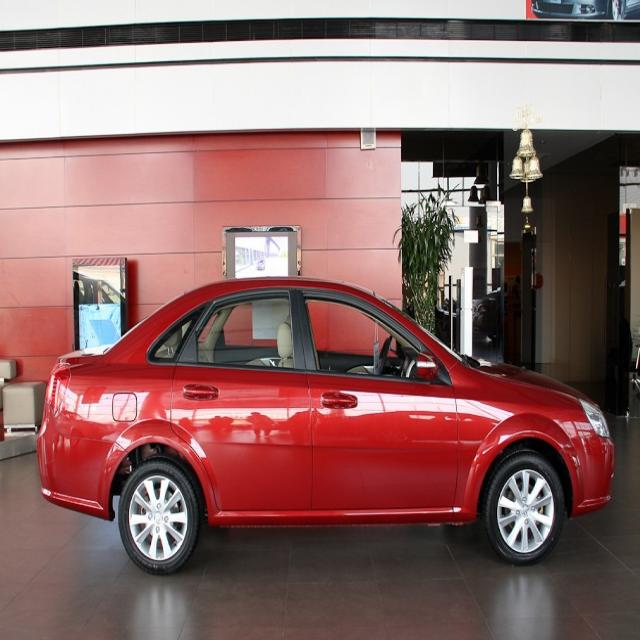back_right_side_light: (45, 363, 76, 418)
door: (168, 287, 315, 526)
front_bumper: (559, 434, 618, 520)
front_right_side_door: (295, 284, 461, 510)
front_right_side_light: (574, 394, 610, 438)
front_right_side_mirror: (414, 348, 442, 386)
rear_bumper: (35, 414, 130, 520)
wheel: (121, 459, 198, 572), (484, 454, 561, 564)
